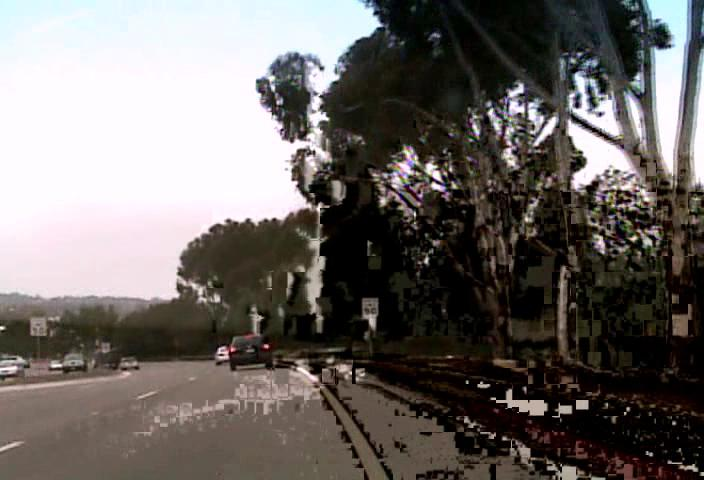speedLimitUrdbl: (28, 314, 47, 337)
